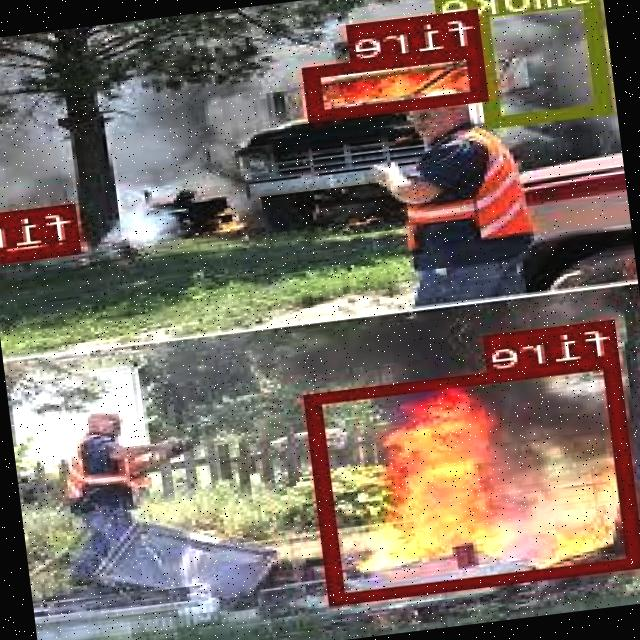fire: (307, 353, 640, 601), (305, 43, 491, 118), (0, 201, 82, 259)
smoke: (470, 0, 613, 125)
